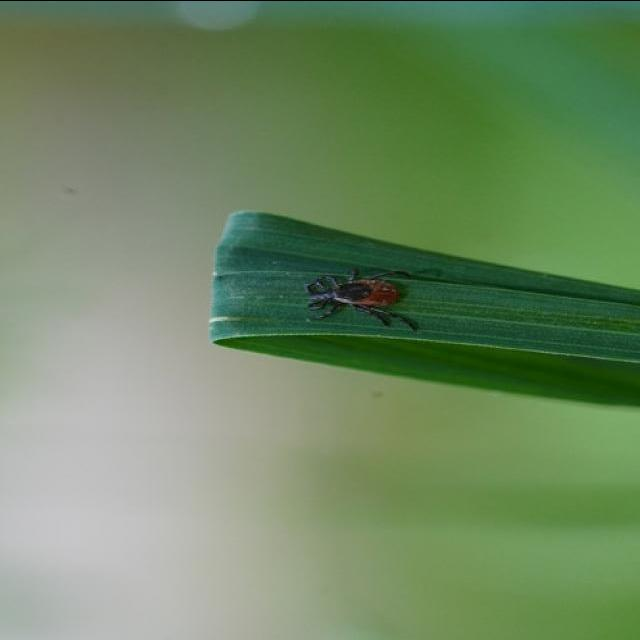Ixodes Ricinus-F: (306, 268, 421, 332)
